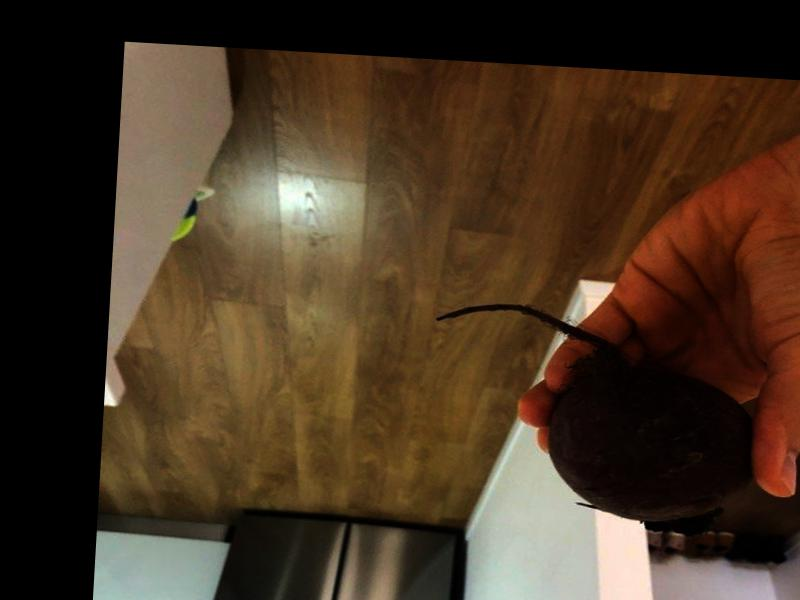Beet: (425, 300, 760, 536)
